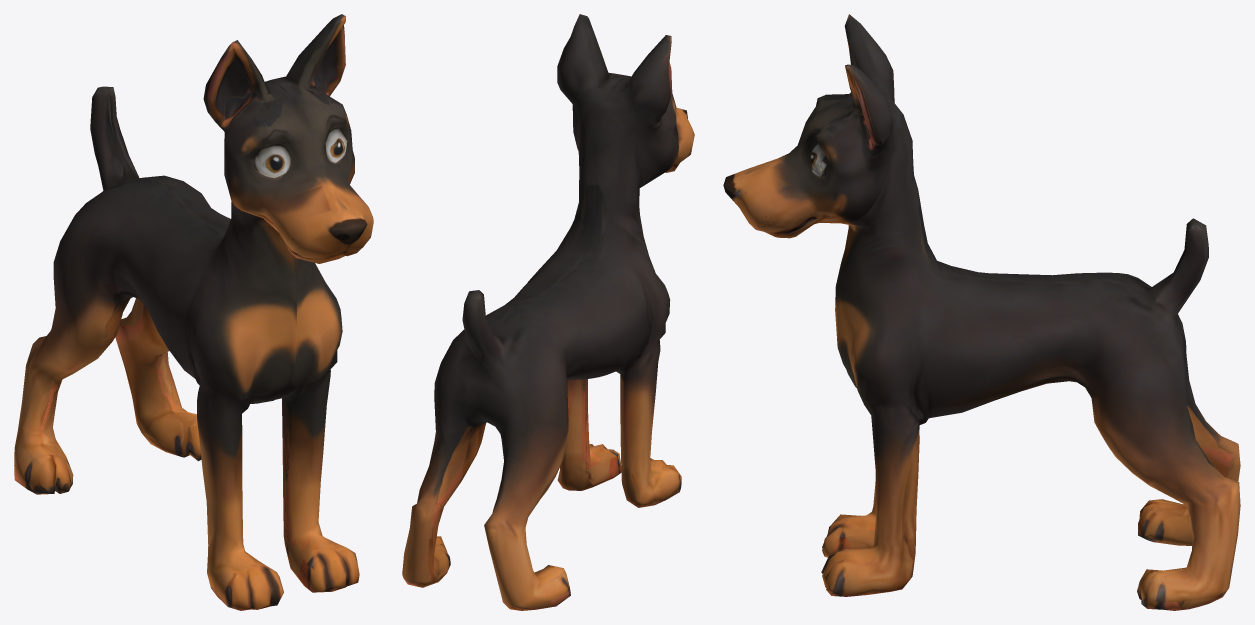
The model's file is a_Lisa_Frank_inspire_0831151414_texture.glb.
3 renders of one model, left to right at view 1: azimuth 30°, elevation 25°; view 2: azimuth 150°, elevation 25°; view 3: azimuth 270°, elevation 25°, orthographic. The views are drawn at different scales.
Visible parts, largest first — view 1: Mesh_0; view 2: Mesh_0; view 3: Mesh_0.
Boxes of the visible parts, x1,y1,x2,y2 form: Mesh_0: (14,14,373,610); Mesh_0: (402,14,694,610); Mesh_0: (723,14,1240,610).
Size of the model in its own units: 72.44 by 200 by 177.
Materials: 1 (1 with a texture image).
